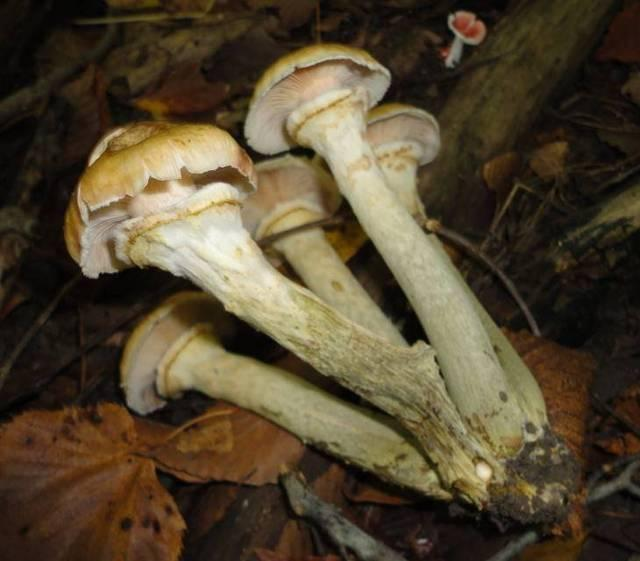edible_mushroom: (62, 41, 581, 529)
